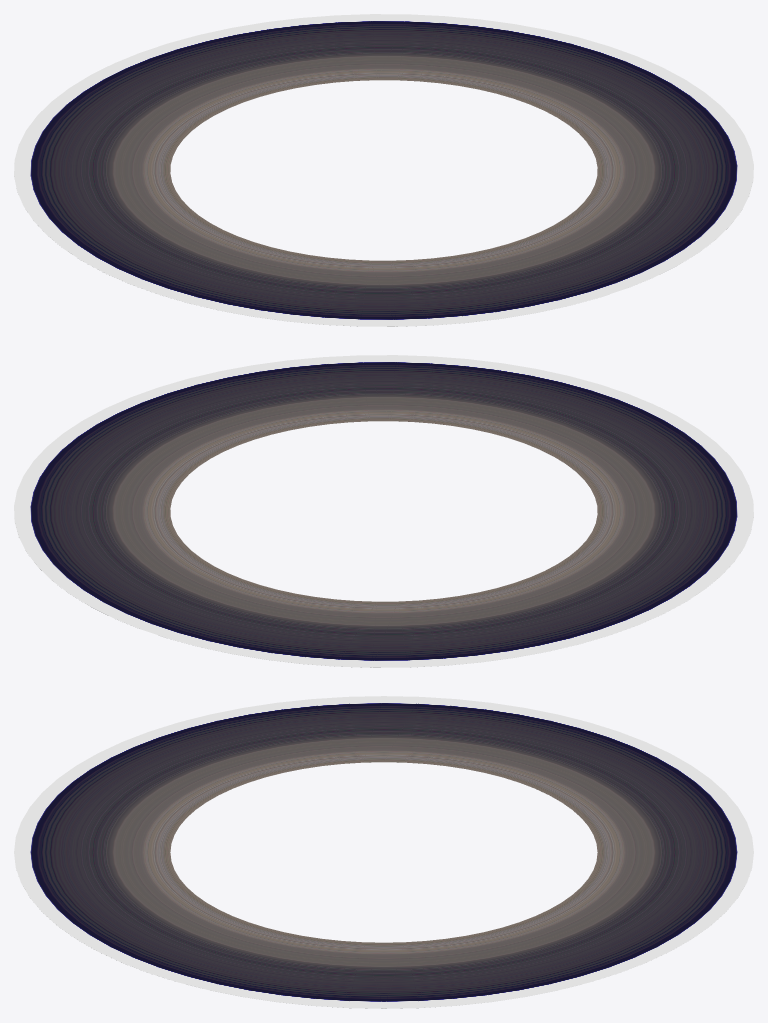
File: saturn_rings.obj
3 views of the same model, one above another, from view 1: azimuth 30°, elevation 25°; view 2: azimuth 150°, elevation 25°; view 3: azimuth 270°, elevation 25° (orthographic).
Parts seen in each view (by area): view 1: Cylinder.001_Cylinder.002; view 2: Cylinder.001_Cylinder.002; view 3: Cylinder.001_Cylinder.002.
Part boxes in pixels (box(x1,y1,x2,y2)): Cylinder.001_Cylinder.002: box(14, 14, 753, 326); Cylinder.001_Cylinder.002: box(14, 355, 753, 667); Cylinder.001_Cylinder.002: box(14, 696, 753, 1008).
Size of the model in its own units: 5.18 by 0.000726 by 5.18.
